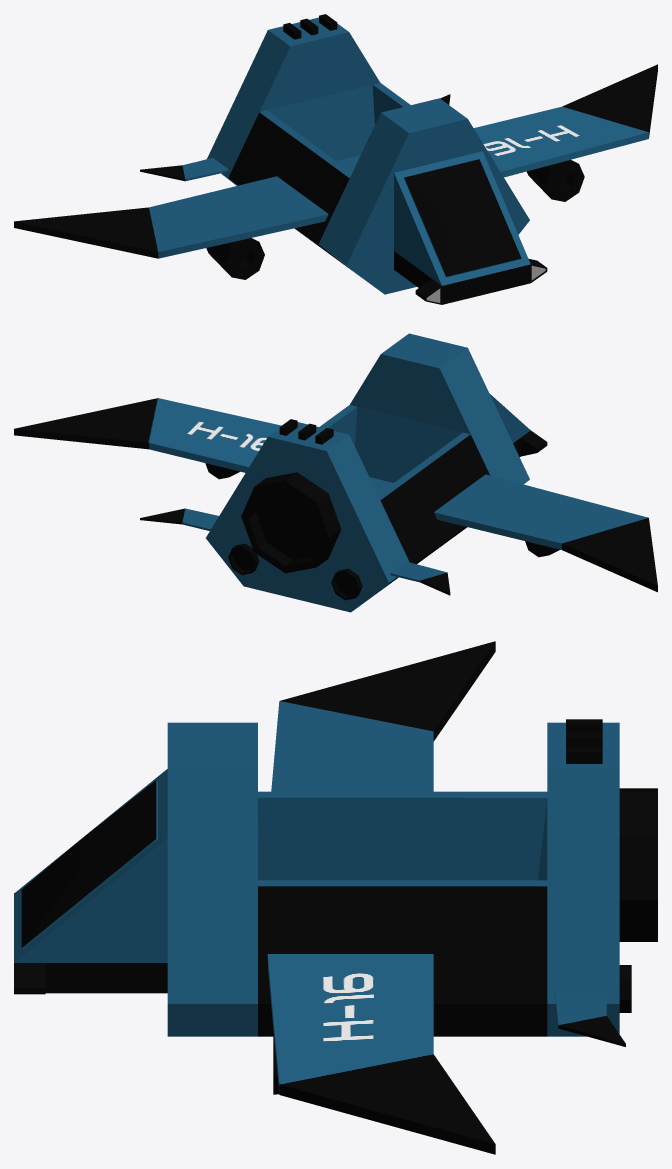
File: spy4.fbx
The picture shows the model from 3 angles, top to bottom: view 1: azimuth 30°, elevation 25°; view 2: azimuth 150°, elevation 25°; view 3: azimuth 270°, elevation 25°; orthographic projection. The views are drawn at different scales.
Parts seen in each view (by area): view 1: polySurface219, pCube21, polySurface7, pCube7, polySurface5, pCylinder11, pCube20, pCube25; view 2: polySurface219, pCube21, pCube7, pCube25, pCube20, pCube13, polySurface5, pCylinder11, polySurface7; view 3: polySurface219, pCube7, pCube21, polySurface7, polySurface5, pCube25, pCube13.
Part boxes in pixels (x1,y1,x2,y2): polySurface219: (207, 17, 529, 294); pCube21: (14, 176, 328, 258); polySurface7: (394, 159, 547, 304); pCube7: (473, 64, 657, 177); polySurface5: (394, 151, 530, 285); pCylinder11: (206, 160, 584, 279); pCube20: (140, 158, 228, 181); pCube25: (283, 14, 337, 39); polySurface219: (206, 333, 529, 612); pCube21: (434, 474, 657, 592); pCube7: (14, 398, 281, 472); pCube25: (228, 419, 362, 600); pCube20: (390, 561, 450, 595); pCube13: (140, 508, 218, 530); polySurface5: (489, 393, 530, 442); pCylinder11: (205, 463, 559, 557); polySurface7: (513, 430, 547, 456); polySurface219: (167, 722, 619, 1036); pCube7: (267, 954, 495, 1154); pCube21: (271, 641, 495, 791); polySurface7: (14, 780, 167, 994); polySurface5: (14, 769, 167, 962); pCube25: (566, 719, 657, 1012); pCube13: (555, 992, 625, 1046).
Bounding box in the file's own units: 1562 × 377 × 845.
